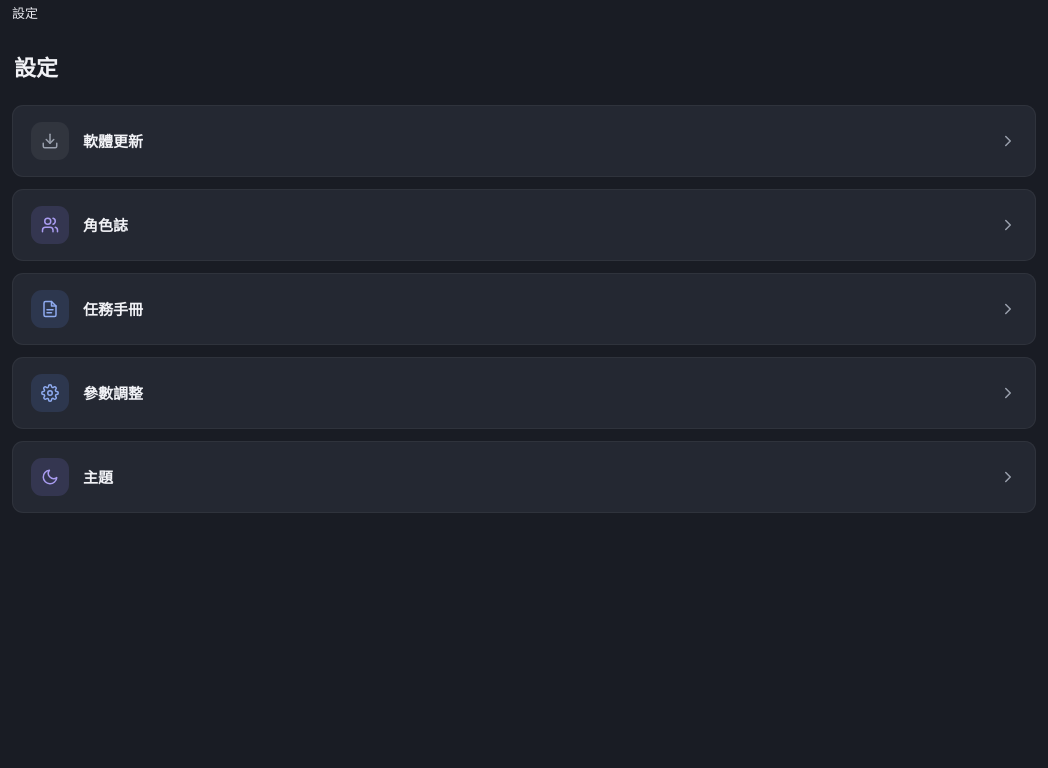
Test: 設定 › 任務手冊 — detail › 編輯 → 取消 discards the drafts and saves nothing (owner T-8a4a r3)
Click the button with test id "settings-manuals-entry". click: point(50, 308)
box: [12,272,1036,344]
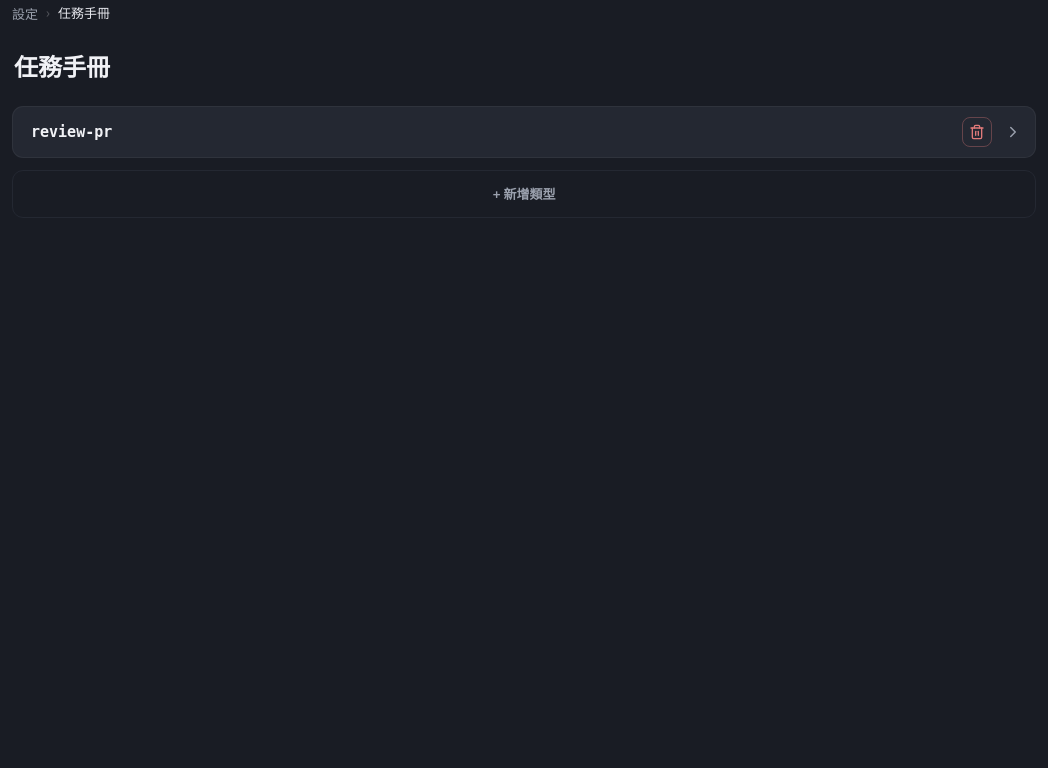
Click the button with test id "manual-open-review-pr". click: point(72, 132)
box: [12,106,1036,158]
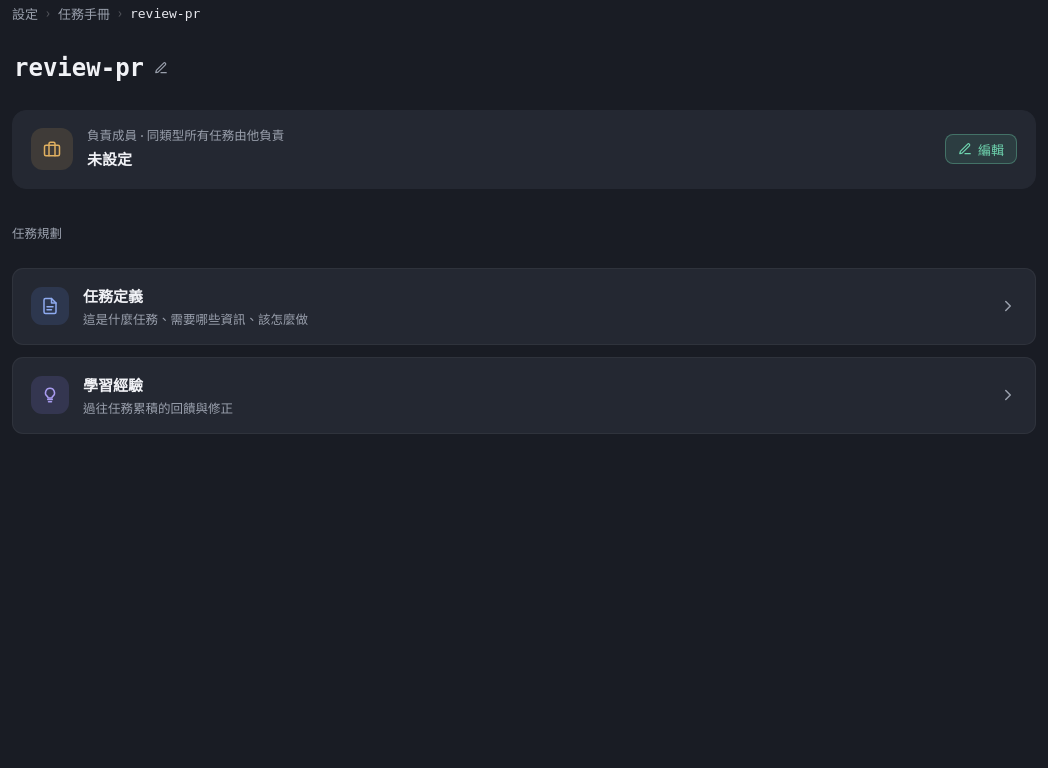
Click the button with test id "manual-entry-definition". click: point(50, 306)
box: [12,268,1036,344]
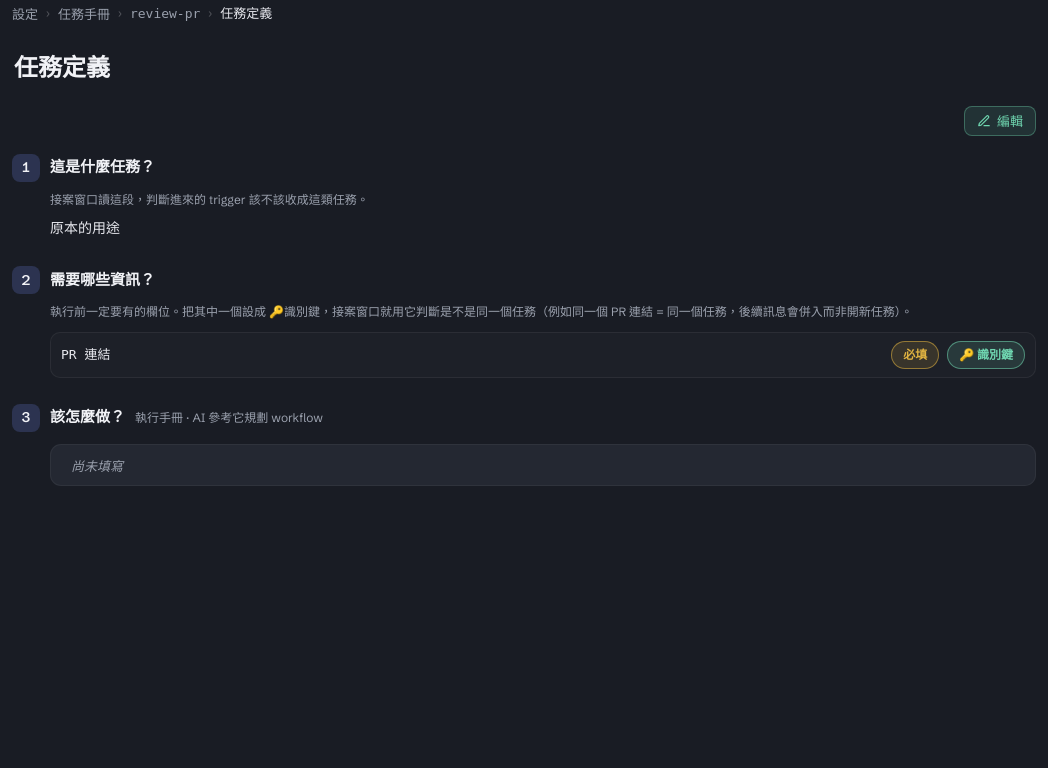
Now the element with test id "manual-definition-card" is shown, box [12,106,1036,486]
Click the button with test id "manual-def-edit". click: point(1000, 120)
box: [964,106,1036,136]
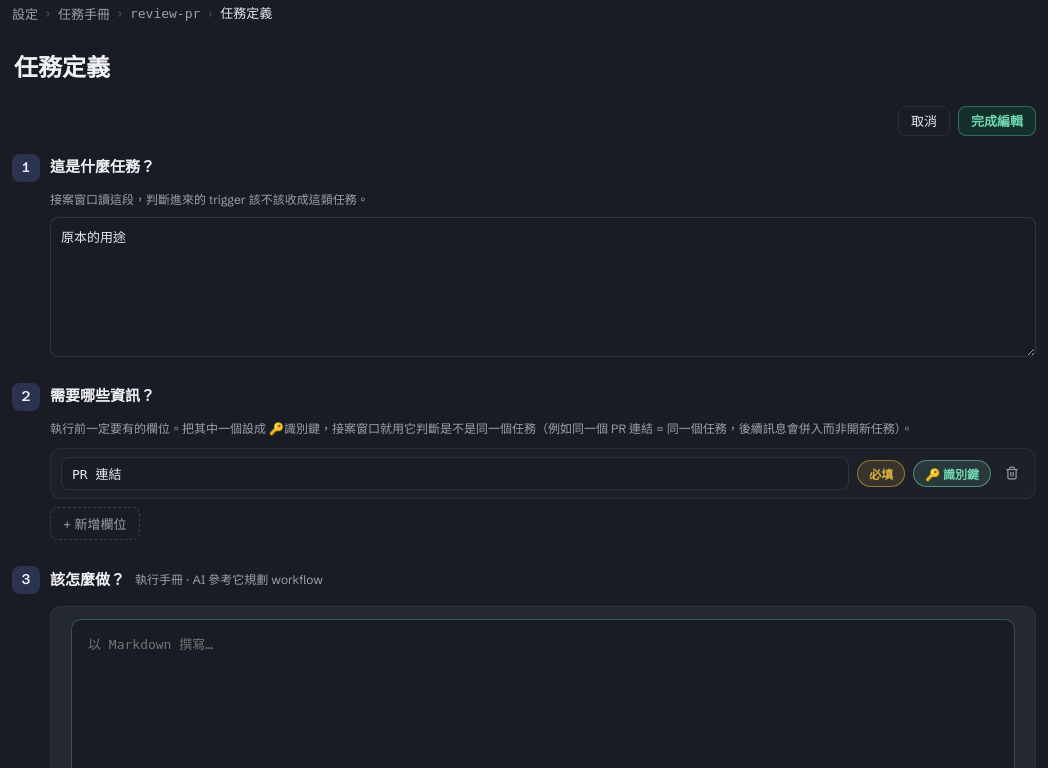
Replace the text in the text box with test id "manual-purpose-input" with "改壞的草稿". click: point(543, 287)
box: [50,217,1036,357]
Click the button with test id "manual-field-remove-0". click: point(1012, 473)
box: [999,460,1025,486]
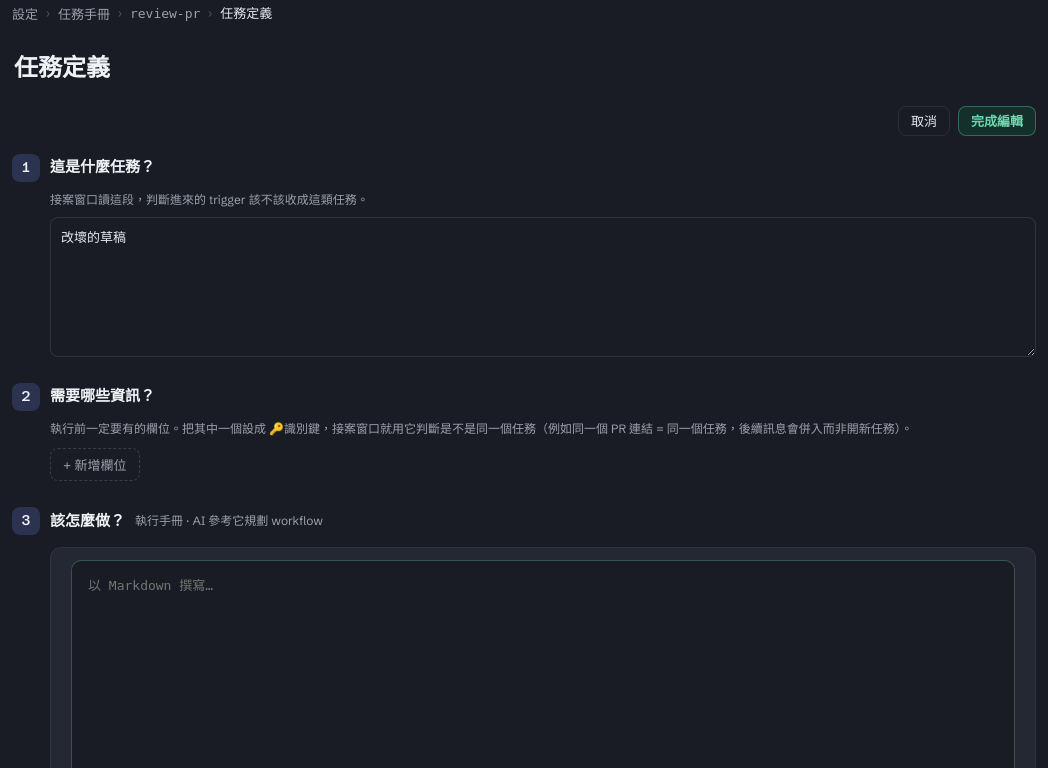
Click the button with test id "manual-def-cancel". click: point(924, 120)
box: [898,106,950,136]
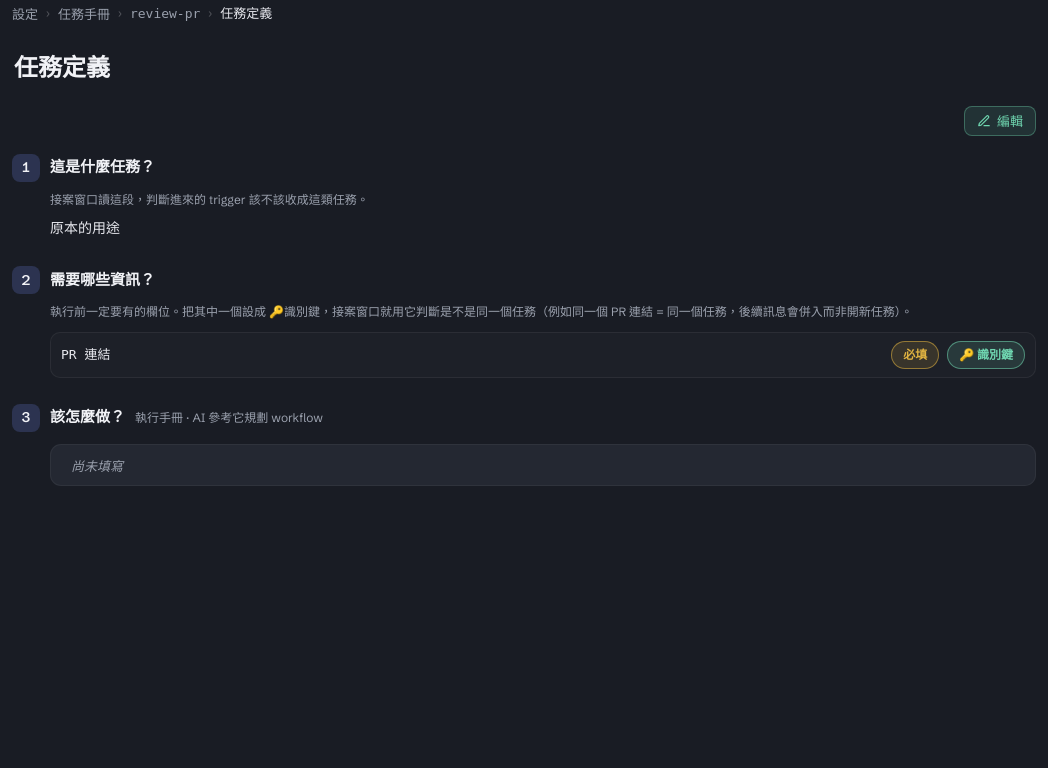
Now the text box with test id "manual-purpose-input" is gone
Now the element with test id "manual-field-view-0" shows "PR 連結", box [61,347,110,362]
Now the text with test id "manual-purpose-view" reads "原本的用途", box [50,219,120,237]
